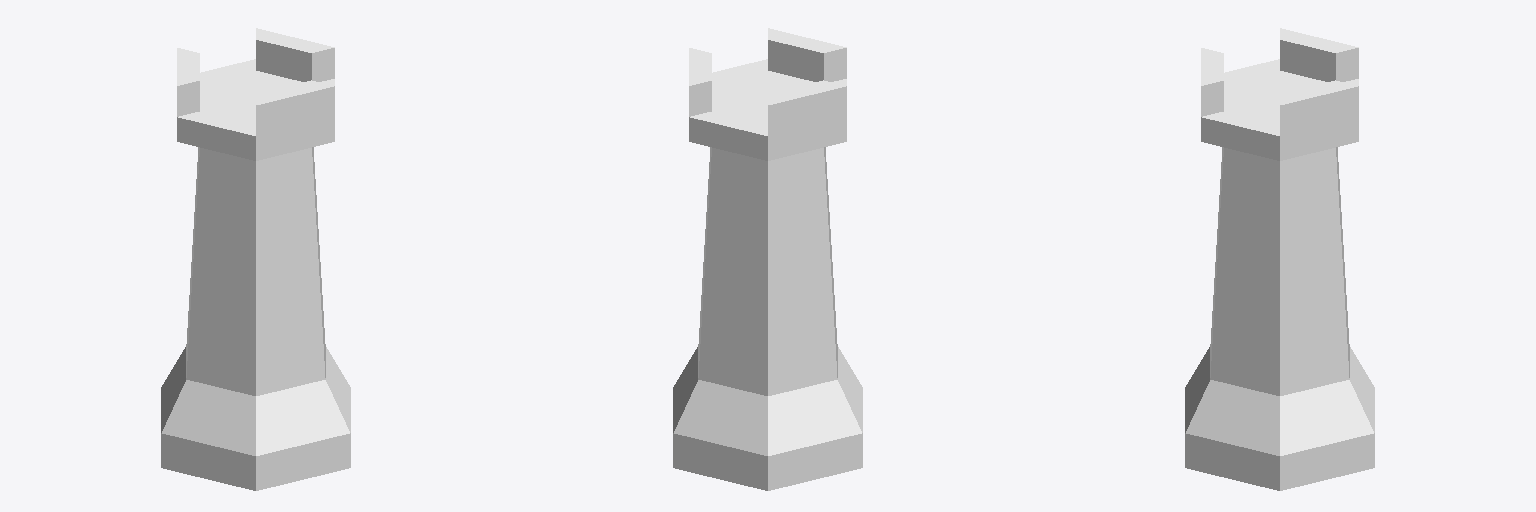
File: rook.obj
3 renders of one model, left to right at view 1: azimuth 30°, elevation 25°; view 2: azimuth 150°, elevation 25°; view 3: azimuth 270°, elevation 25°, orthographic.
Parts seen in each view (by area): view 1: Rook_Sphere.002; view 2: Rook_Sphere.002; view 3: Rook_Sphere.002.
Boxes of the visible parts, box(x1,y1,x2,y2) form: Rook_Sphere.002: box(161, 28, 350, 490); Rook_Sphere.002: box(673, 28, 862, 490); Rook_Sphere.002: box(1185, 28, 1374, 490).
Bounding box in the file's own units: 0.2885 × 0.5516 × 0.2498.